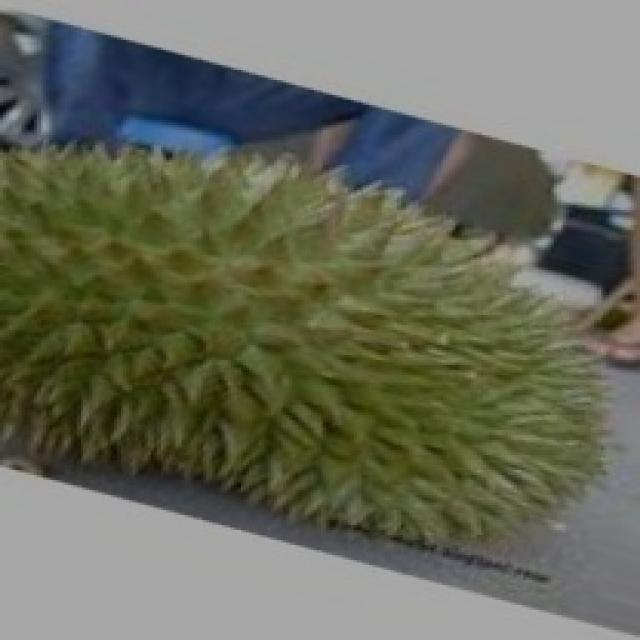fruit: (231, 172, 637, 640), (0, 97, 378, 572)
